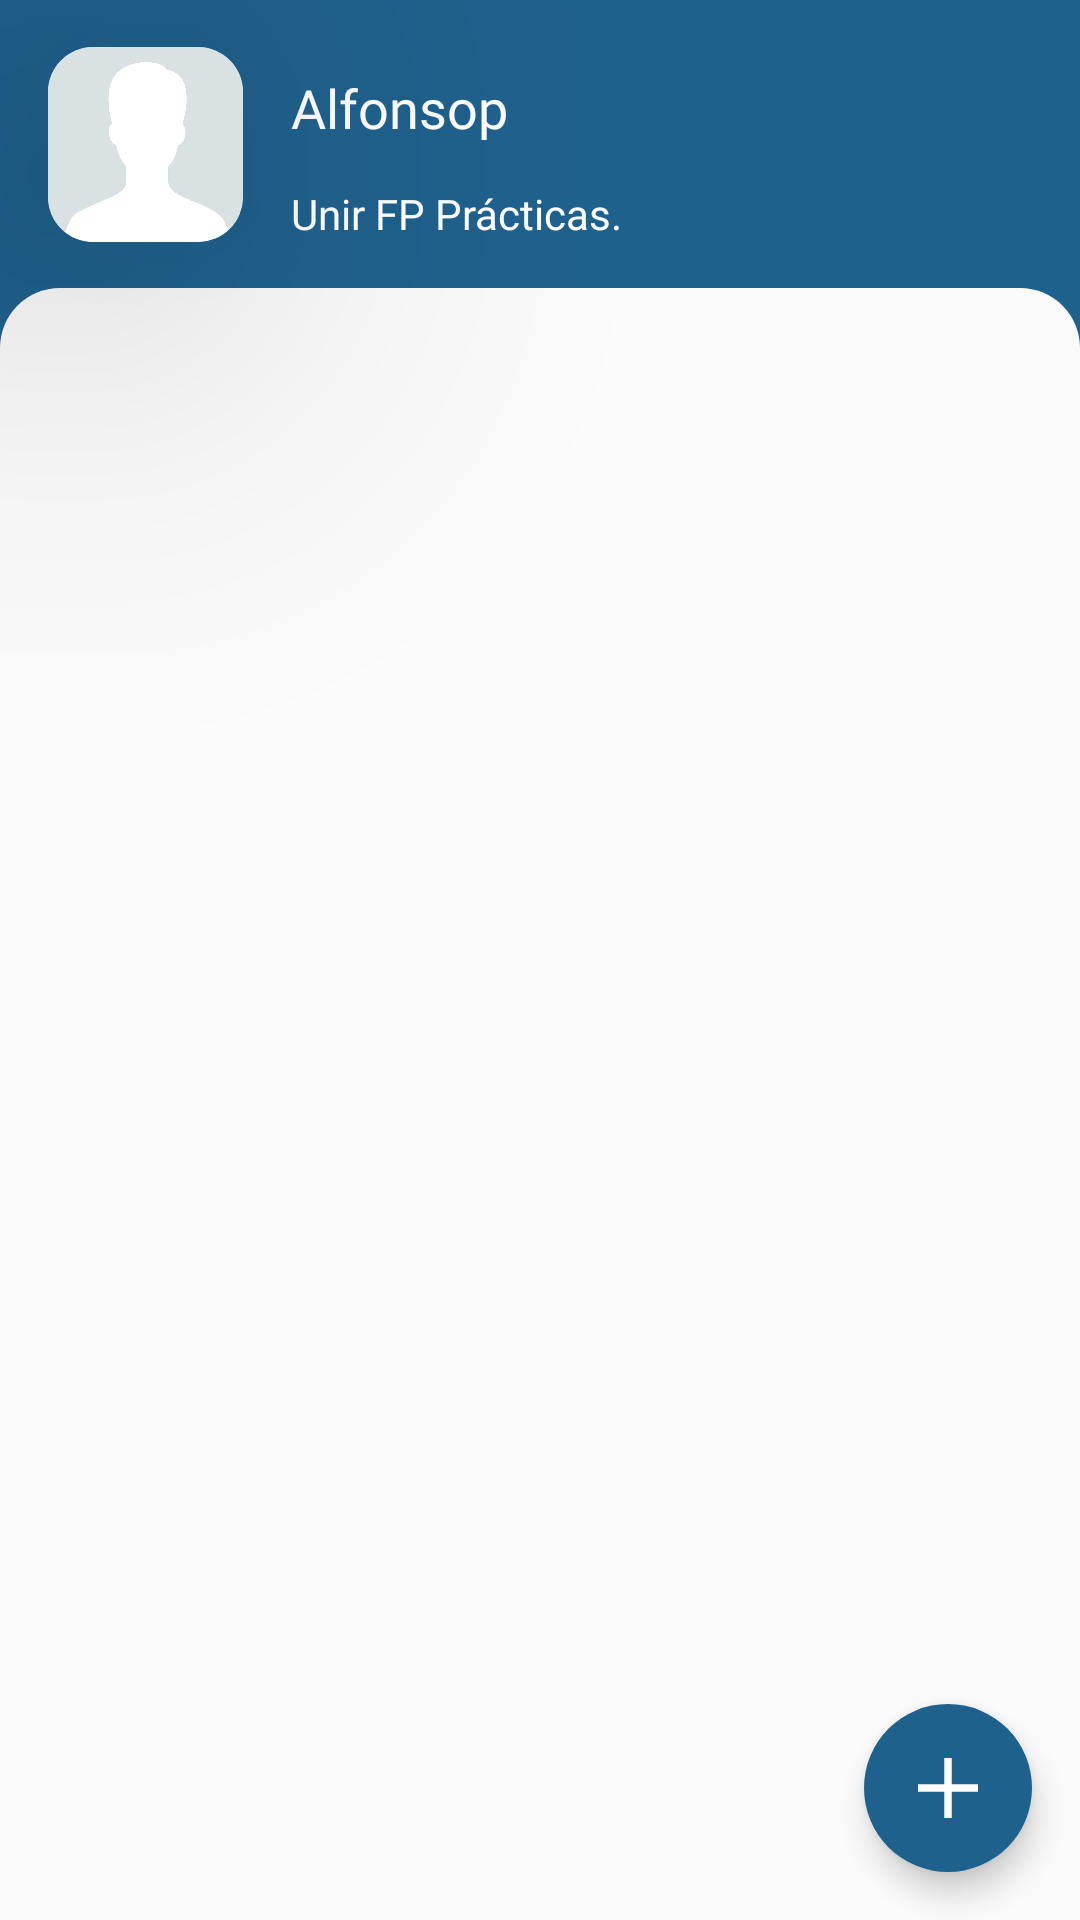

Named icons in this screenshot (1080w x 1920h) and their centers, (x=x, y=y):
add circle: (x=948, y=1788)
defaultavatar: (x=145, y=144)
